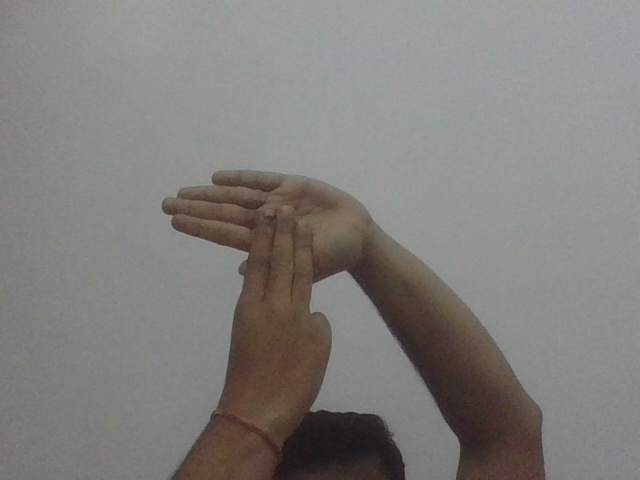M: (156, 168, 369, 348)
